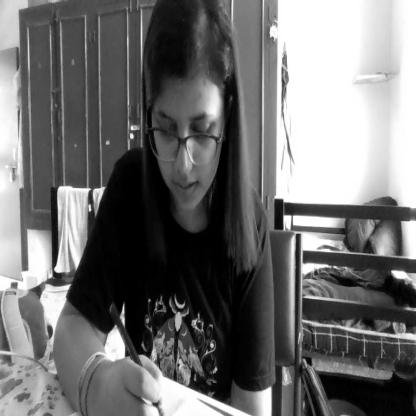Normal: (146, 1, 231, 215)
